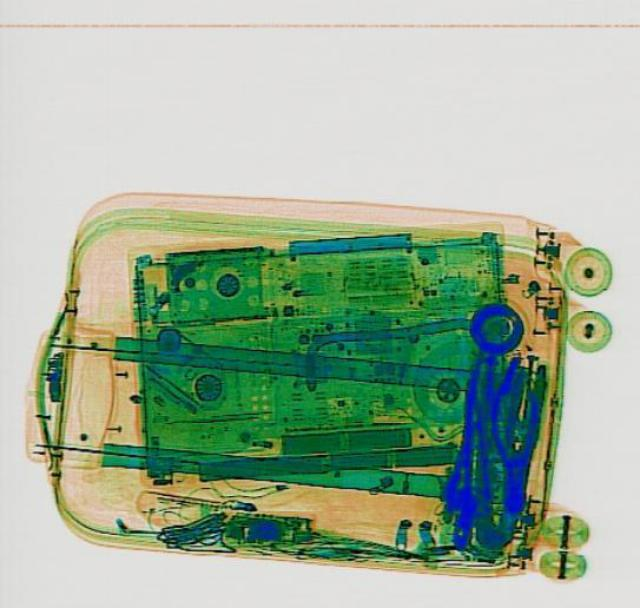Pliers: (456, 355, 546, 546), (482, 351, 538, 510)
